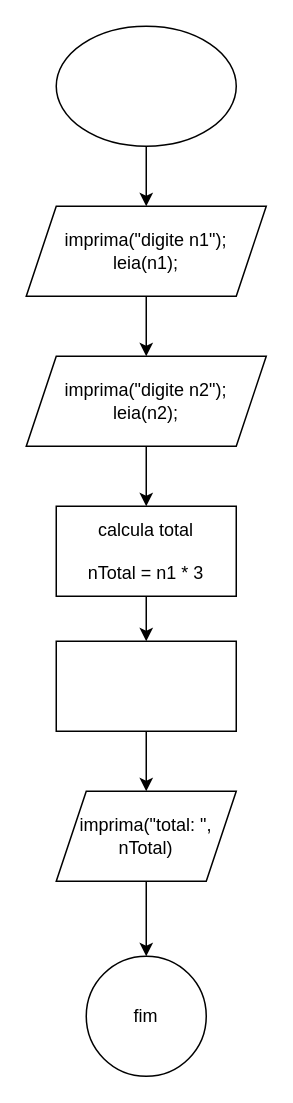
This 293x1103 diagram has some shape labels left out. The shapes that lost their labels are listed below. From the top down, each one's box as (x1, y1, x2, y2) in pixels, then its label:
(55, 25, 236, 146): inicio
(55, 640, 236, 731): calcula total parte 2 nTotal = nTotal + n2
